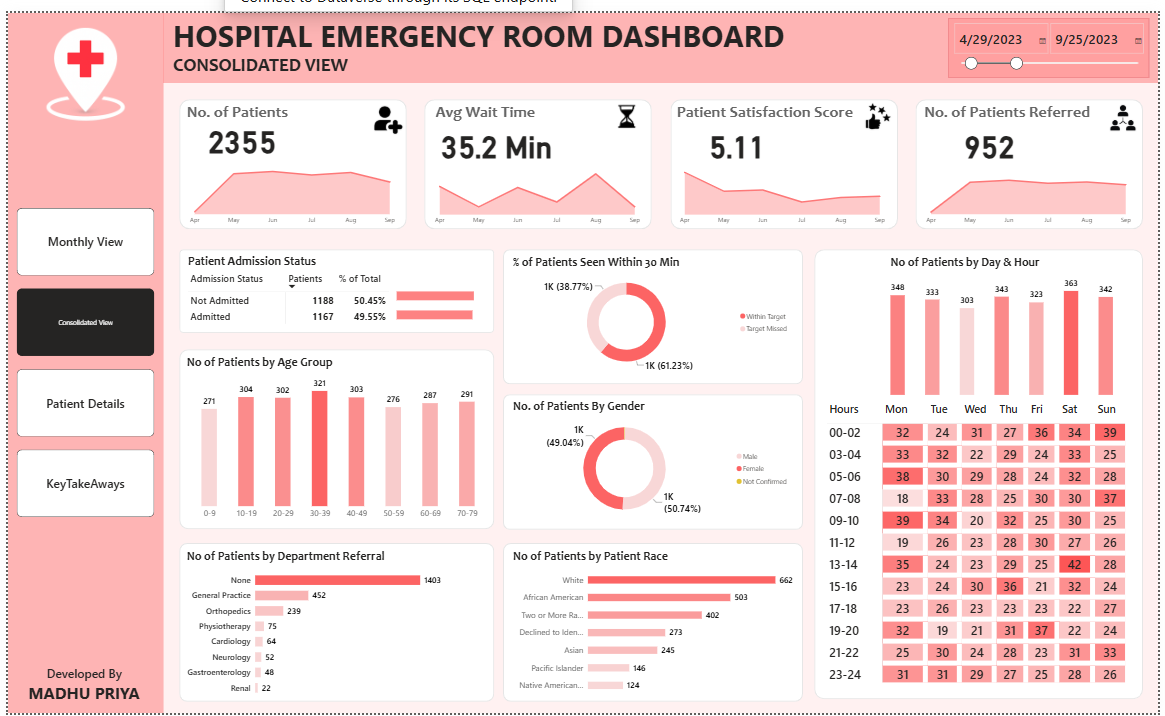

The dashboard page shown, as its layout file describes it:
{"tool":"powerbi","page":{"name":"Consolidated View","canvas":[2300,1400],"ordinal":1},"visuals":[{"type":"shape","box":[342.5,172.5,455,260],"z":0},{"type":"shape","box":[0,0,311.1,1400],"z":1000},{"type":"shape","box":[309.2,0,1990.8,140],"z":2000},{"type":"textbox","box":[325.7,0,1245.9,90.4],"z":3000},{"type":"textbox","box":[325,75,400,65],"z":4000},{"type":"card","fields":{"Values":["Date Table.No of Patients"]},"box":[355,200,227.5,102.5],"z":5000},{"type":"slicer","fields":{"Values":["Date Table.Date"]},"box":[1880,10,402.5,120],"z":6000},{"type":"textbox","box":[352.5,172.5,255,65],"z":7000},{"type":"areaChart","fields":{"Y":["Date Table.No of Patients"],"Category":["Date Table.Month"]},"box":[337.5,287.5,462.5,145],"z":8000},{"type":"shape","box":[833.3,172.5,455,260],"z":9000},{"type":"shape","box":[1324.2,172.5,455,260],"z":10000},{"type":"shape","box":[1815,172.5,455,260],"z":11000},{"type":"textbox","box":[850,172.5,255,65],"z":12000},{"type":"card","fields":{"Values":["Hospital ER_Data.Avg Wait Time"]},"box":[860,217.5,235,85],"z":13000},{"type":"areaChart","fields":{"Y":["Avg(Hospital ER_Data.Patient Waittime)"],"Category":["Date Table.Month"]},"box":[827.5,287.5,462.5,145],"z":14000},{"type":"textbox","box":[1332.5,172.5,447.5,65],"z":15000},{"type":"card","fields":{"Values":["Hospital ER_Data.Satisfaction Score"]},"box":[1340,217.5,235,85],"z":16000},{"type":"areaChart","fields":{"Y":["Hospital ER_Data.Satisfaction Score"],"Category":["Date Table.Month"]},"box":[1317.5,287.5,462.5,145],"z":17000},{"type":"textbox","box":[1827.5,172.5,425,65],"z":18000},{"type":"card","fields":{"Values":["Hospital ER_Data.No. of Patients Referred"]},"box":[1845,217.5,235,85],"z":19000},{"type":"areaChart","fields":{"Y":["Hospital ER_Data.No. of Patients Referred"],"Category":["Date Table.Month"]},"box":[1810,287.5,462,145],"z":20000},{"type":"shape","box":[1612.5,472.5,657.5,900],"z":21000},{"type":"shape","box":[342.5,472.5,630,167.5],"z":22000},{"type":"pivotTable","title":"Patient Admission Status","fields":{"Rows":["Hospital ER_Data.Admission Status"],"Values":["Date Table.No of Patients1","Divide(Date Table.No of Patients, ScopedEval(Date Table.No of Patients, []))"]},"box":[355,480,617.5,160],"z":23000},{"type":"barChart","fields":{"Category":["Hospital ER_Data.Admission Status"],"Y":["Date Table.No of Patients"]},"box":[772.5,525,205,115],"z":24000},{"type":"shape","box":[342.5,672.5,630,360],"z":25000},{"type":"clusteredColumnChart","fields":{"Category":["Hospital ER_Data.Age Group"],"Y":["Date Table.No of Patients"]},"box":[352.5,682.5,617.5,340],"z":26000},{"type":"shape","box":[991.1,762.2,600,271.1],"z":27000},{"type":"shape","box":[342.5,1060,630,317.5],"z":28000},{"type":"clusteredBarChart","fields":{"Category":["Hospital ER_Data.Department Referral"],"Y":["Date Table.No of Patients"]},"box":[352.5,1070,617.5,307.5],"z":29000},{"type":"shape","box":[990,472.5,600,270],"z":30000},{"type":"donutChart","title":"% of Patients Seen Within 30 Min","fields":{"Category":["Hospital ER_Data.Wait Time Status"],"Y":["Date Table.No of Patients"]},"box":[1005,482.5,567.5,242.5],"z":31000},{"type":"donutChart","title":"No. of Patients By Gender","fields":{"Y":["Date Table.No of Patients"],"Category":["Hospital ER_Data.Patient Gender"]},"box":[1005,770,567.5,252.5],"z":32000},{"type":"shape","box":[990,1060,600,317.5],"z":33000},{"type":"clusteredBarChart","fields":{"Category":["Hospital ER_Data.Patient Race"],"Y":["Date Table.No of Patients"]},"box":[1005,1070,570,302.5],"z":34000},{"type":"pivotTable","fields":{"Rows":["Hospital ER_Data.Wait Time Interval"],"Columns":["Date Table.Day"],"Values":["Date Table.No of Patients"]},"box":[1632.5,770,640,602.5],"z":35000},{"type":"columnChart","title":"No of Patients by Day & Hour","fields":{"Category":["Date Table.Day"],"Y":["Date Table.No of Patients"]},"box":[1760,482.5,457.5,287.5],"z":36000},{"type":"image","box":[2187.5,172.5,85,80],"z":37000},{"type":"image","box":[30,0,250,237.5],"z":38000},{"type":"pageNavigator","box":[17.5,390,275,620],"z":39000},{"type":"textbox","box":[0,1300,310,100],"z":40000},{"type":"image","box":[717.5,180,77.5,67.5],"z":40001},{"type":"image","box":[1205,172.5,85,67.5],"z":40002},{"type":"image","box":[1685,172.5,100,67.5],"z":40003}]}

Visuals, with their boxes on the page's 2300x1400 design canvas (x1, y1, x2, y2). These are canvas units, not pixel positions in the 1165x716 screenshot, which may show the page scaled, cropped or inside an application window:
shape: locate(342, 172, 798, 432)
shape: locate(0, 0, 311, 1400)
shape: locate(309, 0, 2300, 140)
textbox: locate(326, 0, 1572, 90)
textbox: locate(325, 75, 725, 140)
card - Date Table.No of Patients: locate(355, 200, 582, 302)
slicer - Date Table.Date: locate(1880, 10, 2282, 130)
textbox: locate(352, 172, 608, 238)
areaChart - Date Table.No of Patients x Date Table.Month: locate(338, 288, 800, 432)
shape: locate(833, 172, 1288, 432)
shape: locate(1324, 172, 1779, 432)
shape: locate(1815, 172, 2270, 432)
textbox: locate(850, 172, 1105, 238)
card - Hospital ER_Data.Avg Wait Time: locate(860, 218, 1095, 302)
areaChart - Avg(Hospital ER_Data.Patient Waittime) x Date Table.Month: locate(828, 288, 1290, 432)
textbox: locate(1332, 172, 1780, 238)
card - Hospital ER_Data.Satisfaction Score: locate(1340, 218, 1575, 302)
areaChart - Hospital ER_Data.Satisfaction Score x Date Table.Month: locate(1318, 288, 1780, 432)
textbox: locate(1828, 172, 2252, 238)
card - Hospital ER_Data.No. of Patients Referred: locate(1845, 218, 2080, 302)
areaChart - Hospital ER_Data.No. of Patients Referred x Date Table.Month: locate(1810, 288, 2272, 432)
shape: locate(1612, 472, 2270, 1372)
shape: locate(342, 472, 972, 640)
"Patient Admission Status" pivotTable: locate(355, 480, 972, 640)
barChart - Hospital ER_Data.Admission Status x Date Table.No of Patients: locate(772, 525, 978, 640)
shape: locate(342, 672, 972, 1032)
clusteredColumnChart - Hospital ER_Data.Age Group x Date Table.No of Patients: locate(352, 682, 970, 1022)
shape: locate(991, 762, 1591, 1033)
shape: locate(342, 1060, 972, 1378)
clusteredBarChart - Hospital ER_Data.Department Referral x Date Table.No of Patients: locate(352, 1070, 970, 1378)
shape: locate(990, 472, 1590, 742)
"% of Patients Seen Within 30 Min" donutChart: locate(1005, 482, 1572, 725)
"No. of Patients By Gender" donutChart: locate(1005, 770, 1572, 1022)
shape: locate(990, 1060, 1590, 1378)
clusteredBarChart - Hospital ER_Data.Patient Race x Date Table.No of Patients: locate(1005, 1070, 1575, 1372)
pivotTable - Hospital ER_Data.Wait Time Interval x Date Table.Day: locate(1632, 770, 2272, 1372)
"No of Patients by Day & Hour" columnChart: locate(1760, 482, 2218, 770)
image: locate(2188, 172, 2272, 252)
image: locate(30, 0, 280, 238)
pageNavigator: locate(18, 390, 292, 1010)
textbox: locate(0, 1300, 310, 1400)
image: locate(718, 180, 795, 248)
image: locate(1205, 172, 1290, 240)
image: locate(1685, 172, 1785, 240)
